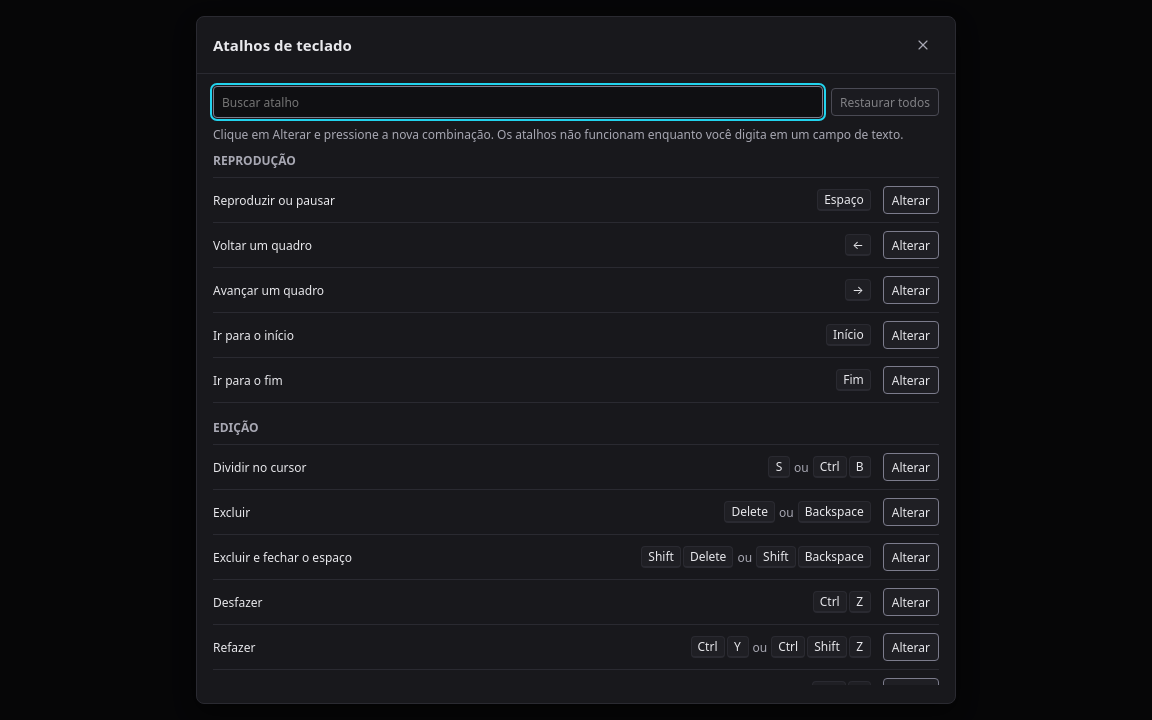
Test case: ShortcutsDialog › grava uma nova combinação digitada depois de Alterar
Click the button "Alterar" in the row of "Dividir no cursor" at (911, 467), box [883,453,939,481]
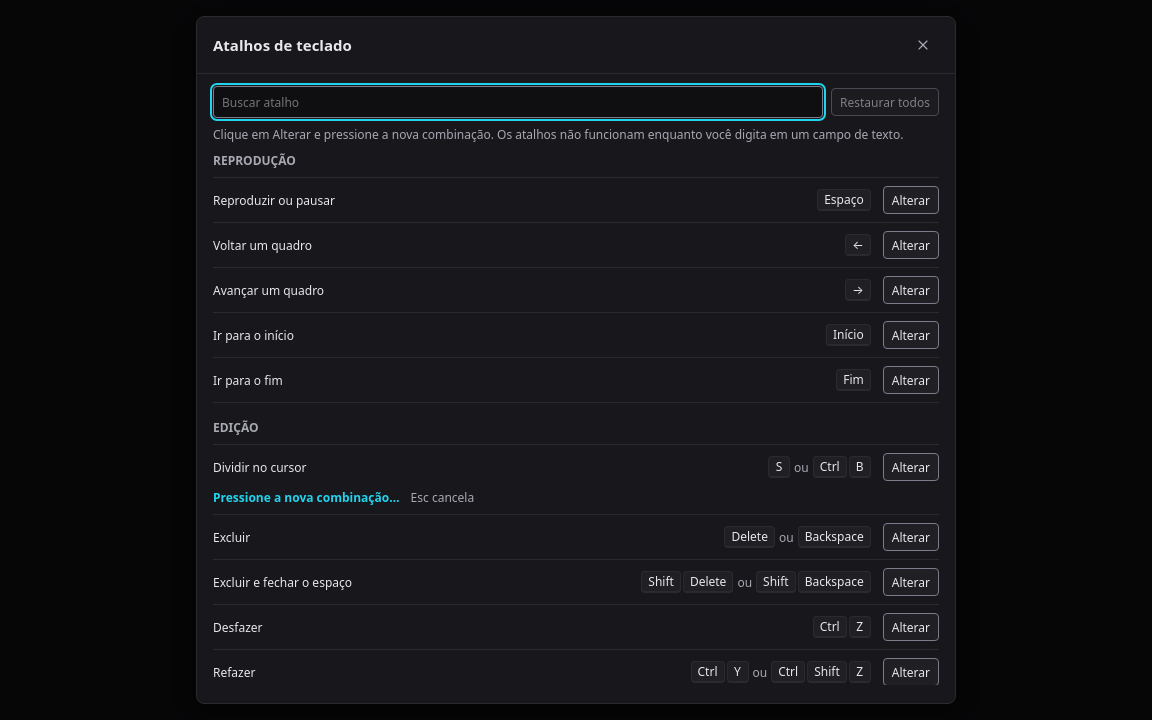
Check: the text "Pressione a nova combinação…" is shown, box [213,489,400,506]
Press x in the dialog
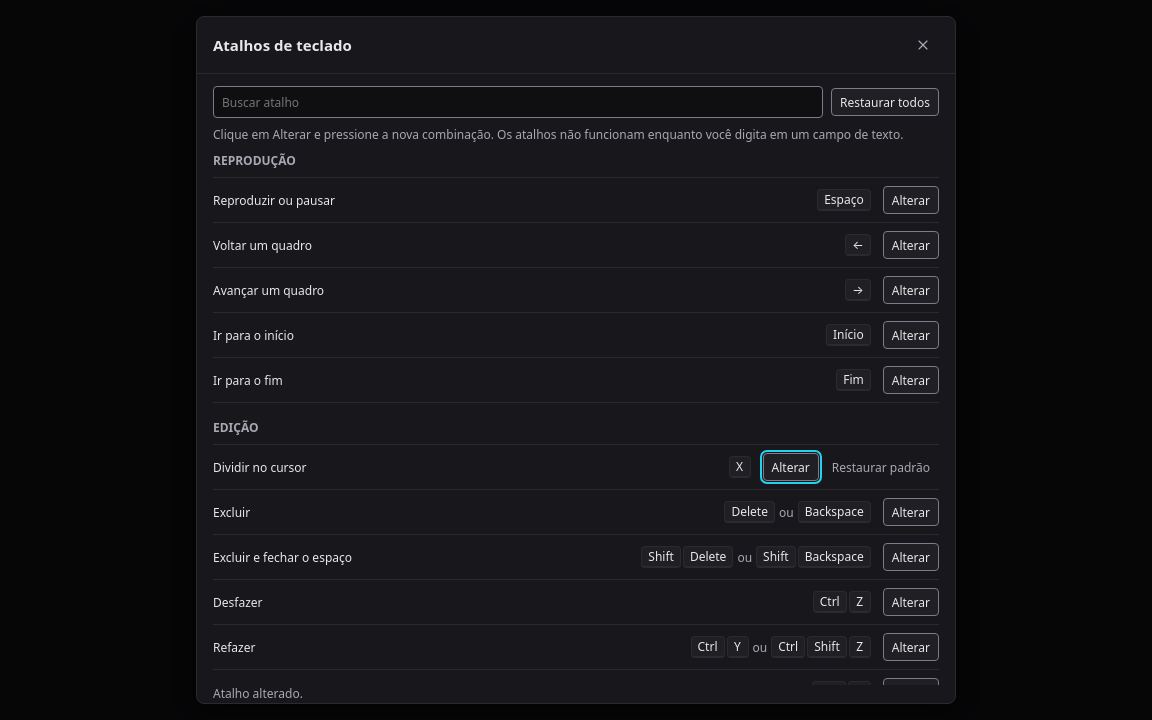
Check: the text "Pressione a nova combinação…" is gone
